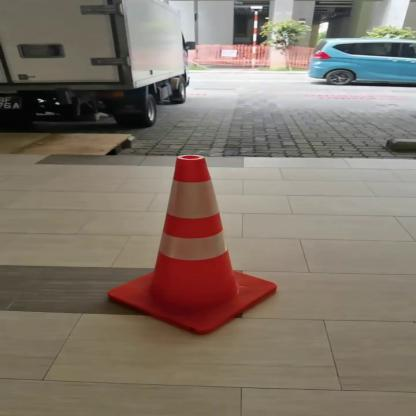cone: (108, 149, 280, 340)
